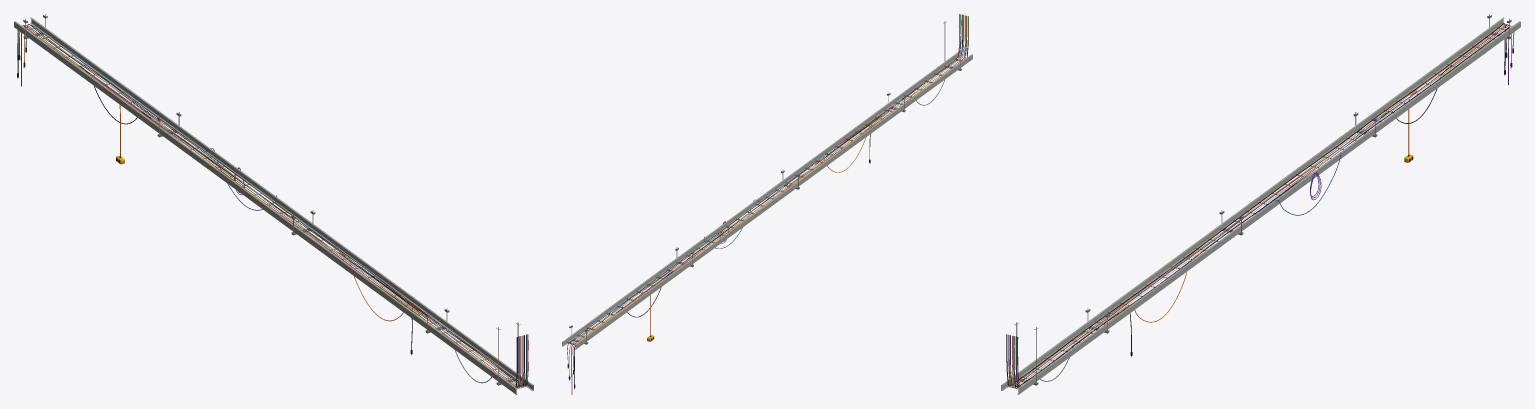
File: cable-tray.glb
The picture shows the model from 3 angles, left to right: view 1: azimuth 30°, elevation 25°; view 2: azimuth 150°, elevation 25°; view 3: azimuth 330°, elevation 25°; orthographic projection. The views are drawn at different scales.
Visible parts, largest first — view 1: cable_tray_N42; view 2: cable_tray_N42; view 3: cable_tray_N42.
Part boxes in pixels (x1=…): cable_tray_N42: x1=14, y1=14, x2=533, y2=394; cable_tray_N42: x1=562, y1=14, x2=972, y2=394; cable_tray_N42: x1=1001, y1=14, x2=1520, y2=394.
Size of the model in its own units: 0.3 by 1.56 by 12.
Materials: 1 (1 with a texture image).
